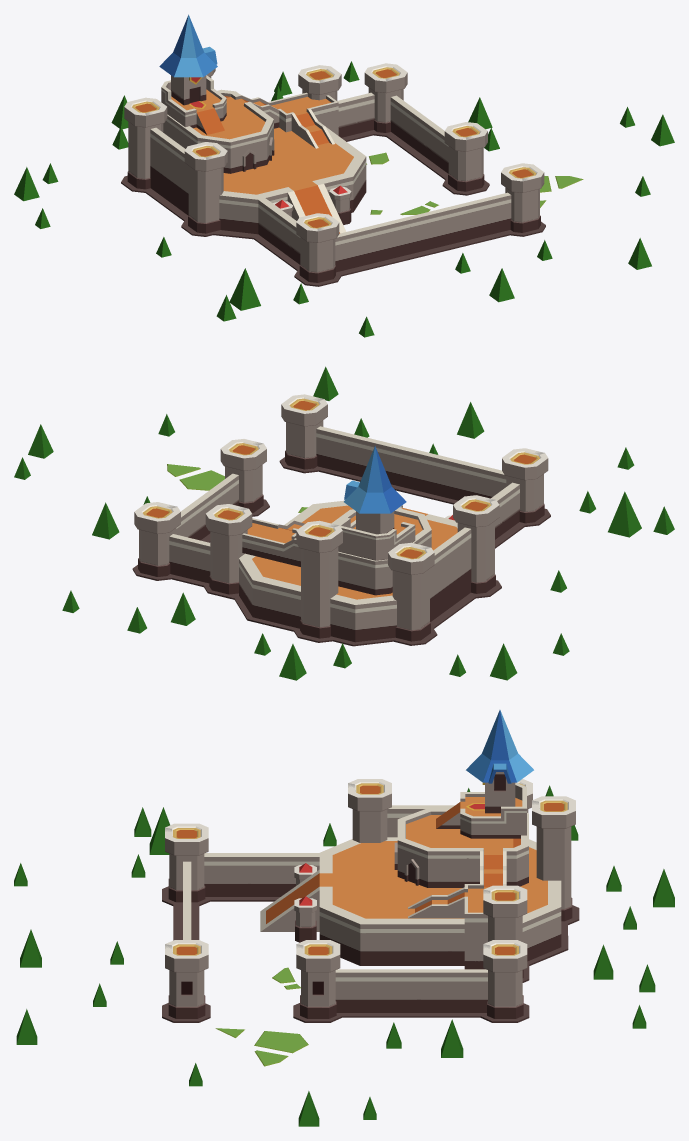
File: Fight_Scene_Castle_001.FBX
3 views of the same model, one above another, from view 1: azimuth 30°, elevation 25°; view 2: azimuth 150°, elevation 25°; view 3: azimuth 270°, elevation 25° (orthographic). The views are drawn at different scales.
Visible parts, largest first — view 1: Fight_Scene_Castle_001; view 2: Fight_Scene_Castle_001; view 3: Fight_Scene_Castle_001.
Boxes of the visible parts, x1,y1,x2,y2 form: Fight_Scene_Castle_001: [14, 14, 674, 337]; Fight_Scene_Castle_001: [14, 366, 674, 680]; Fight_Scene_Castle_001: [14, 710, 674, 1126].
Size of the model in its own units: 34.28 by 9.45 by 29.81.
